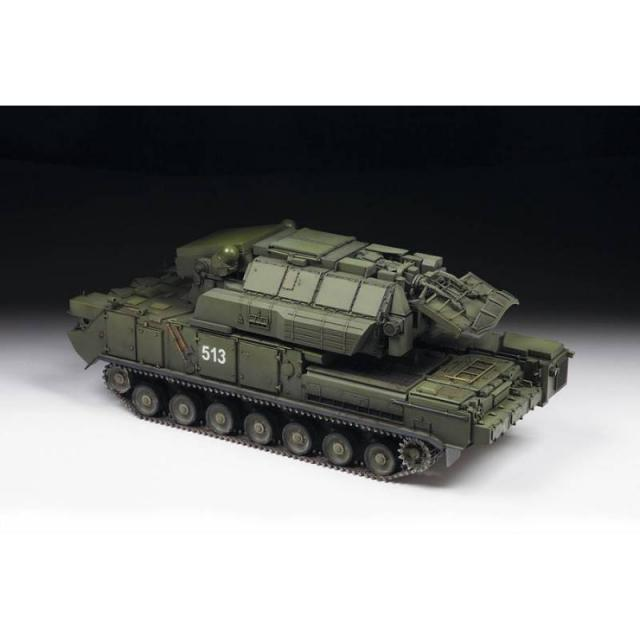MIL_EW_RDR: (67, 219, 573, 483)
